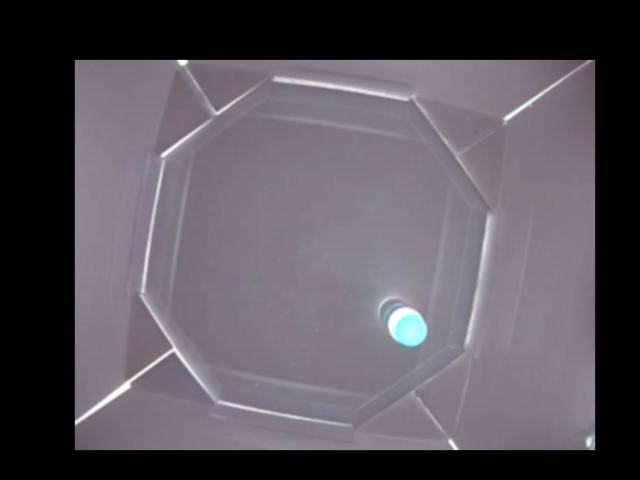Medicine: (378, 299, 426, 346)
